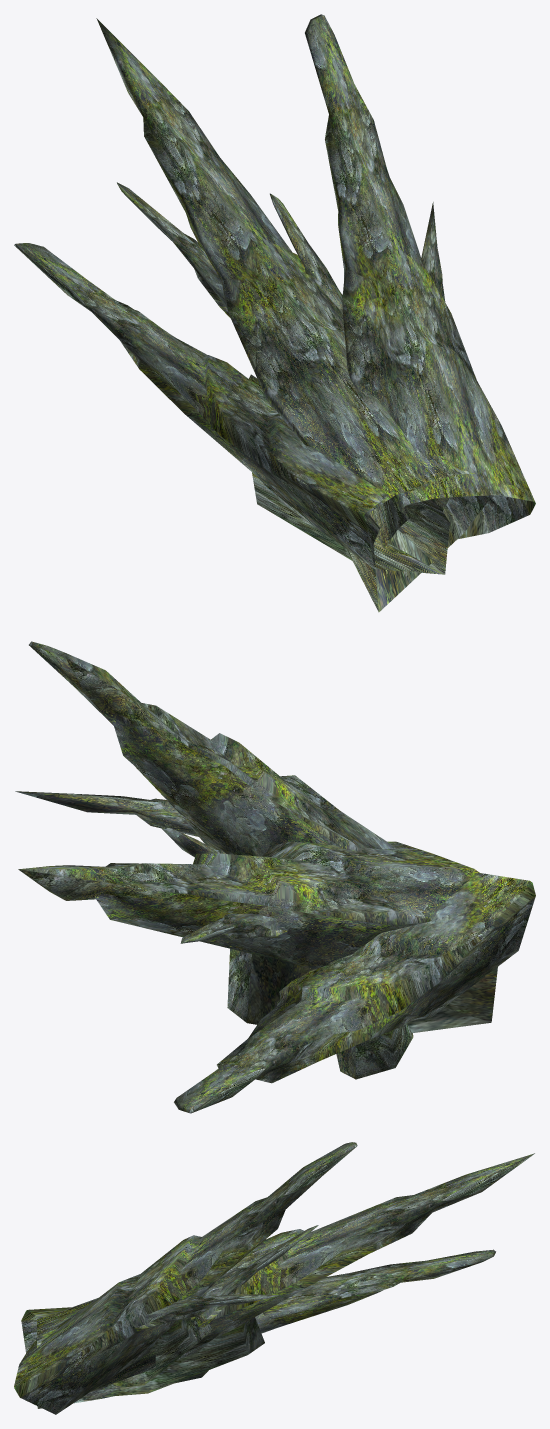
Rendered from S_Rock_Green062.FBX.
3 renders of one model, top to bottom at view 1: azimuth 30°, elevation 25°; view 2: azimuth 150°, elevation 25°; view 3: azimuth 270°, elevation 25°, orthographic. The views are drawn at different scales.
Visible parts, largest first — view 1: S_Rock_Green062; view 2: S_Rock_Green062; view 3: S_Rock_Green062.
Part boxes in pixels (x1=…): S_Rock_Green062: x1=14, y1=14, x2=535, y2=612; S_Rock_Green062: x1=15, y1=641, x2=535, y2=1113; S_Rock_Green062: x1=14, y1=1142, x2=534, y2=1414.
Size of the model in its own units: 1199 by 2551 by 1688.
